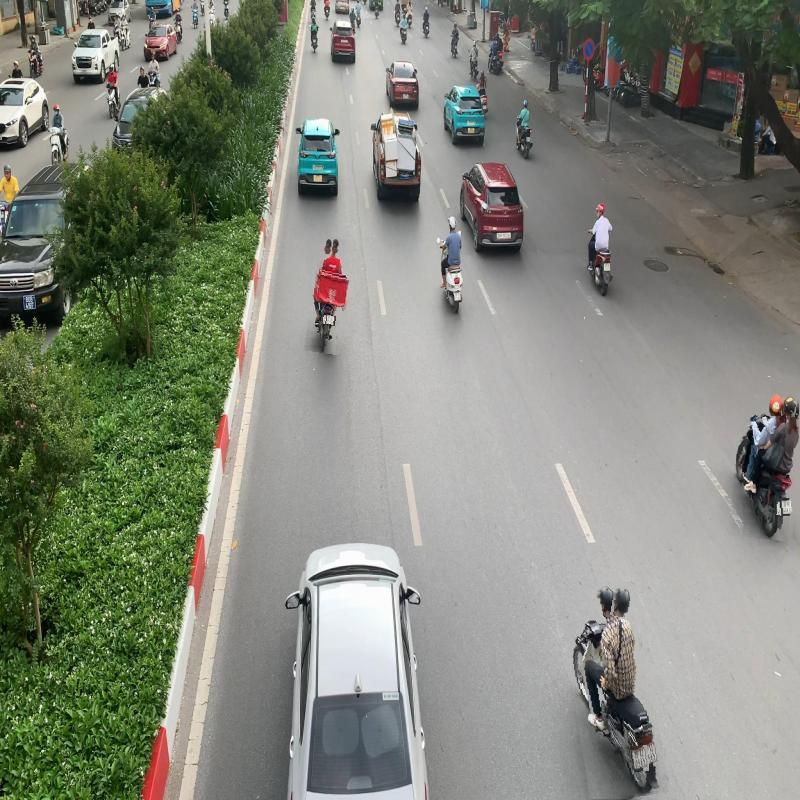helmet: (610, 589, 634, 618), (780, 395, 796, 416), (769, 392, 783, 416)
licenseplate: (630, 746, 648, 772), (780, 498, 793, 516), (326, 316, 336, 326)
motorcyclist: (564, 583, 660, 800), (732, 390, 800, 540), (308, 237, 351, 355)
nohelmet: (324, 238, 334, 254)
